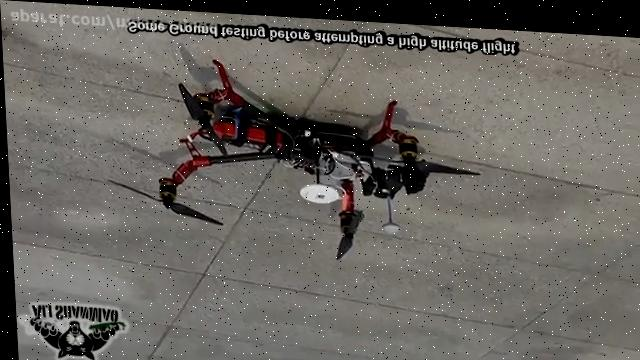drone: (97, 51, 485, 268)
